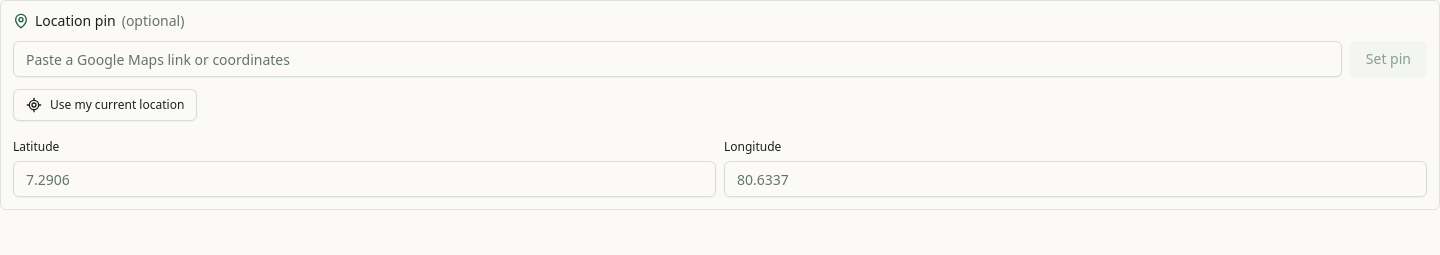
Test case: LocationPicker › explains when it can't find a location in the text
Type "Kandy market" into the field labelled "Google Maps link or coordinates" at point(677, 59), box 13,41 -> 1342,77
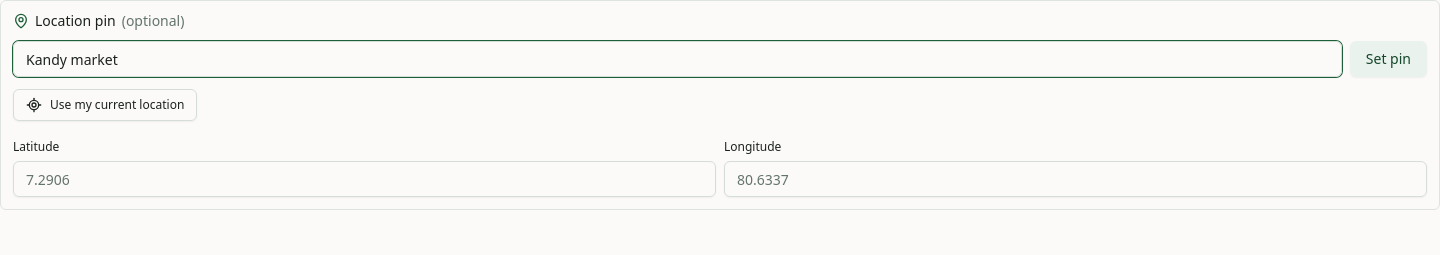
Click the button "Set pin" at point(1388, 59), box 1350,41 -> 1427,77
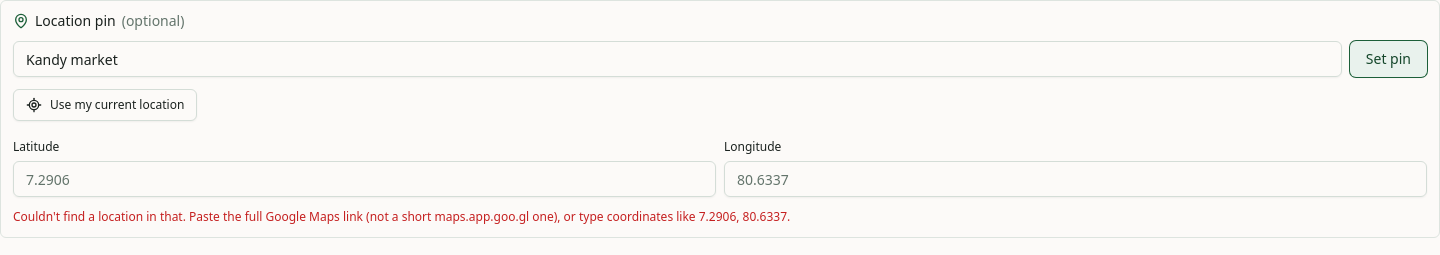
Expected: the text "Couldn't find a location" is shown, 13,208 -> 790,225
